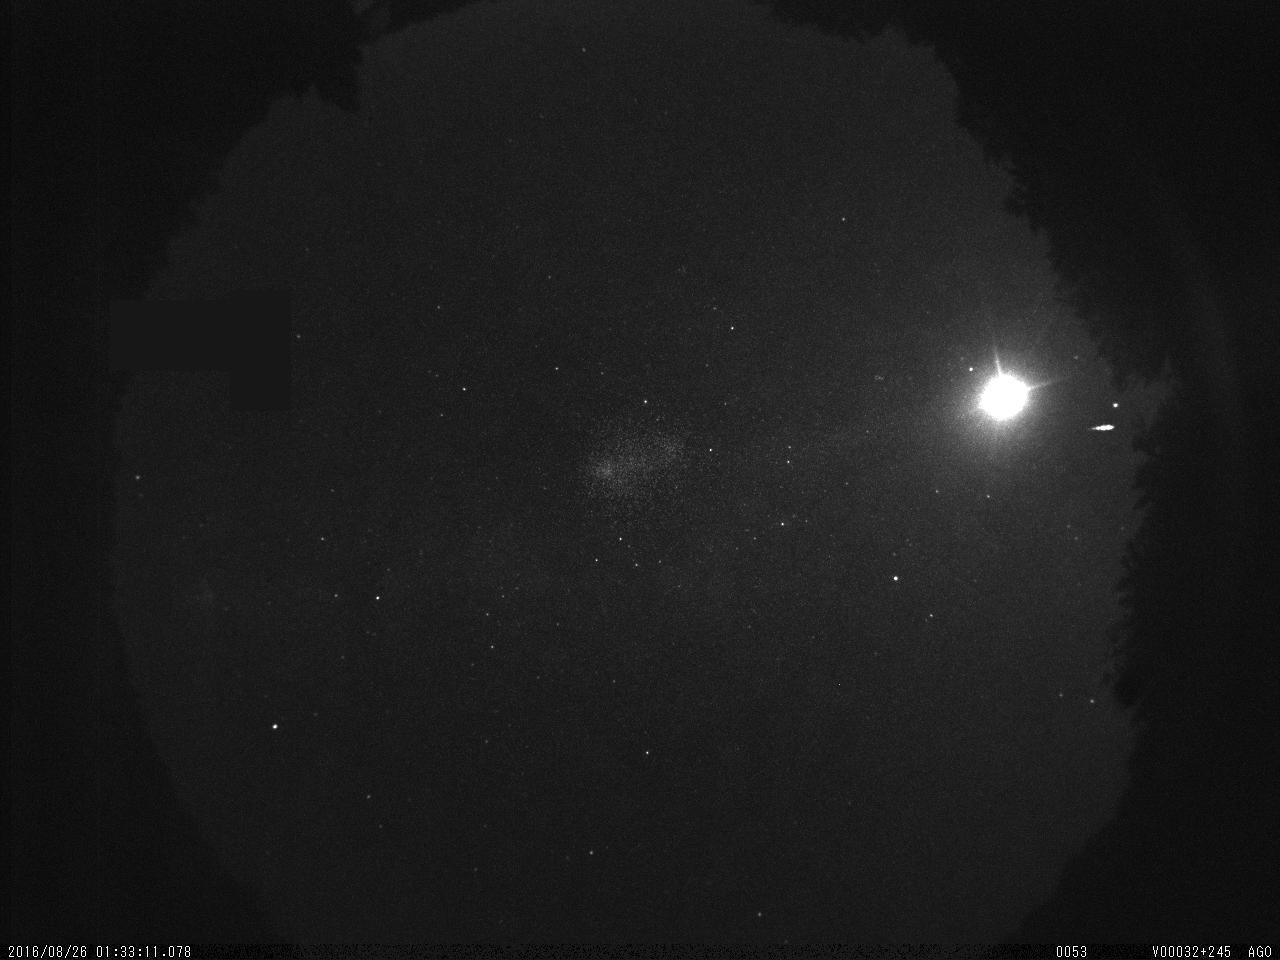Meteor: (1085, 419, 1118, 434)
